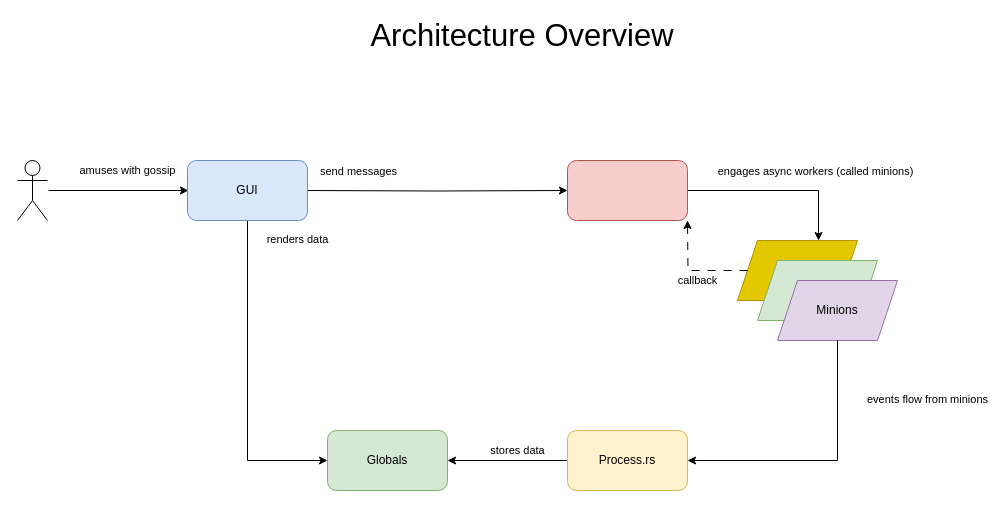
The diagram is 1005 pixels wide and 508 high, and some of its shapes have lost their labels. The shapes that lost their labels are listed below. From the top down, each one's centre as x and y in pixels, then its label:
At [32,190]: "User".
At [627,190]: "Overload".
